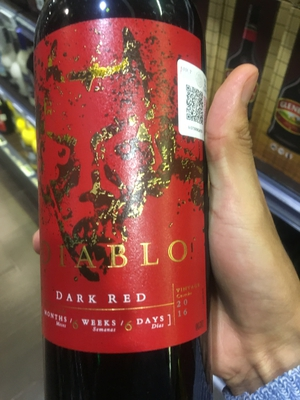diablo dark red: (31, 3, 216, 400)
